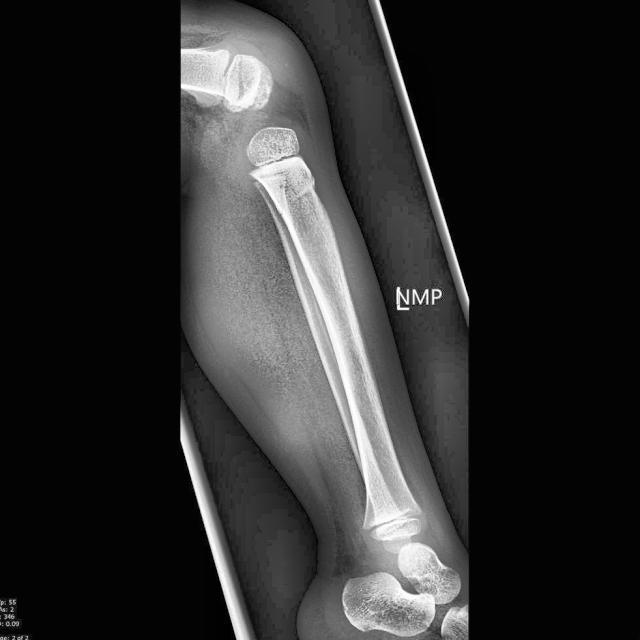fracture: (235, 55, 245, 102), (298, 181, 316, 196), (278, 205, 282, 218)
